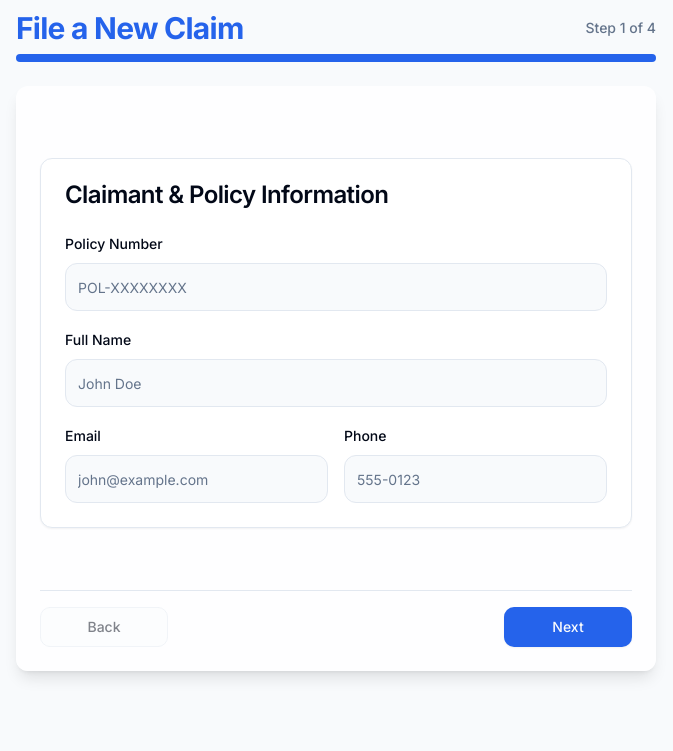
Test case: FNOLWizard Integration Tests › prevents navigation to next step if validation fails
The image size is (673, 751).
Note: Try to click Next on Step 1 without filling anything
Step 1. Click the button "Next" → click(568, 627), box [504,607,632,647]
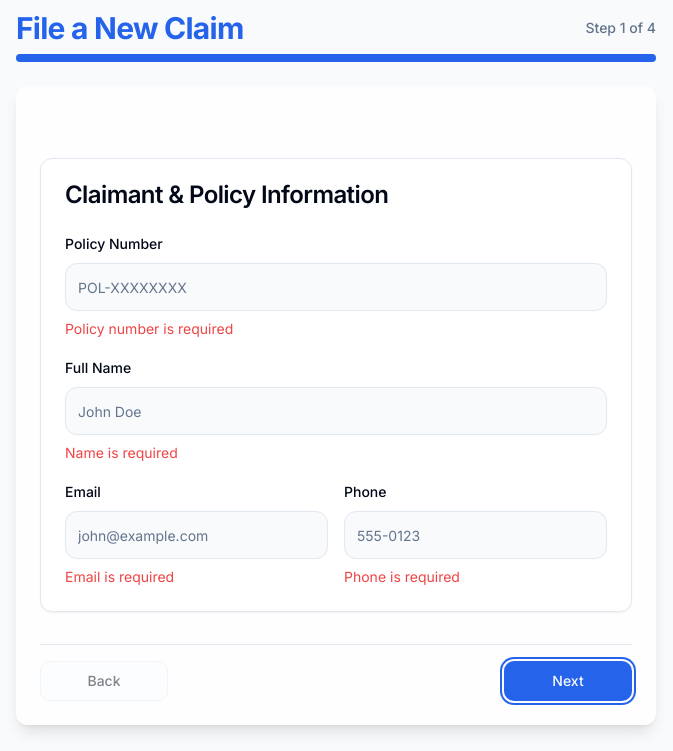
Result: the text "Policy number is required" is shown at [65,320,233,337]
Result: the text "Name is required" is shown at [65,444,178,461]
Result: the text "Email is required" is shown at [65,568,174,585]
